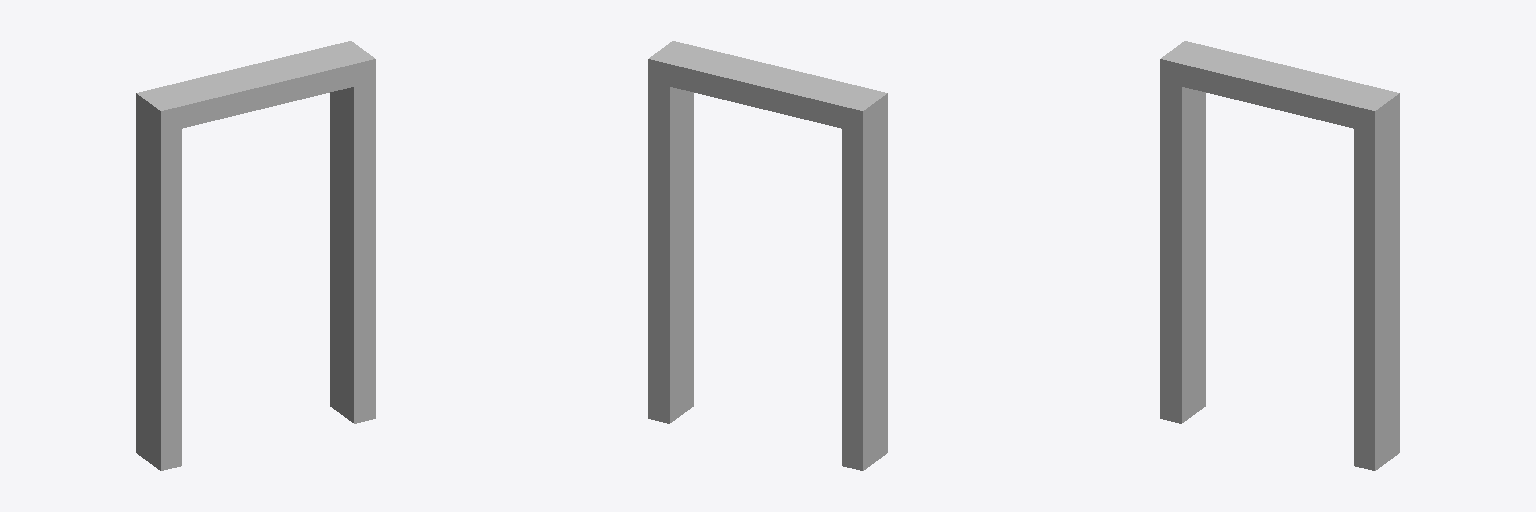
The model's file is Door Frame.obj.
3 views of the same model, side by side, from view 1: azimuth 30°, elevation 25°; view 2: azimuth 150°, elevation 25°; view 3: azimuth 330°, elevation 25° (orthographic).
Visible parts, largest first — view 1: object 1; view 2: object 1; view 3: object 1.
Part boxes in pixels (x1,y1,x2,y2): object 1: (136, 41, 375, 470); object 1: (648, 41, 887, 470); object 1: (1160, 41, 1399, 470).
Bounding box in the file's own units: 1 × 1.6 × 0.2.